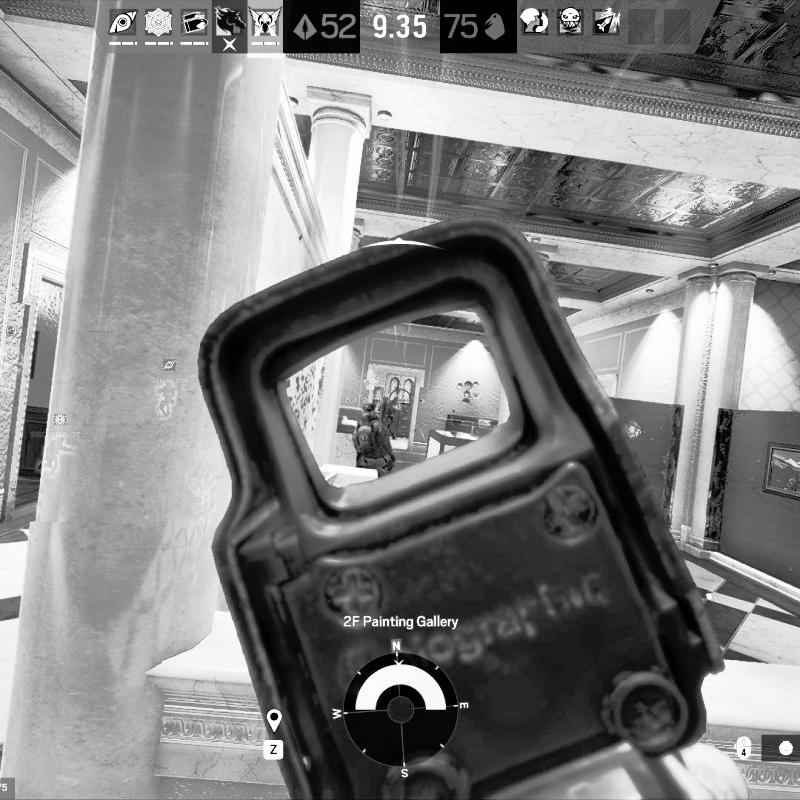Character: (348, 402, 398, 476), (382, 392, 401, 441)
Friend_label: (28, 412, 83, 438), (148, 356, 190, 384)
Head: (362, 402, 376, 418)
